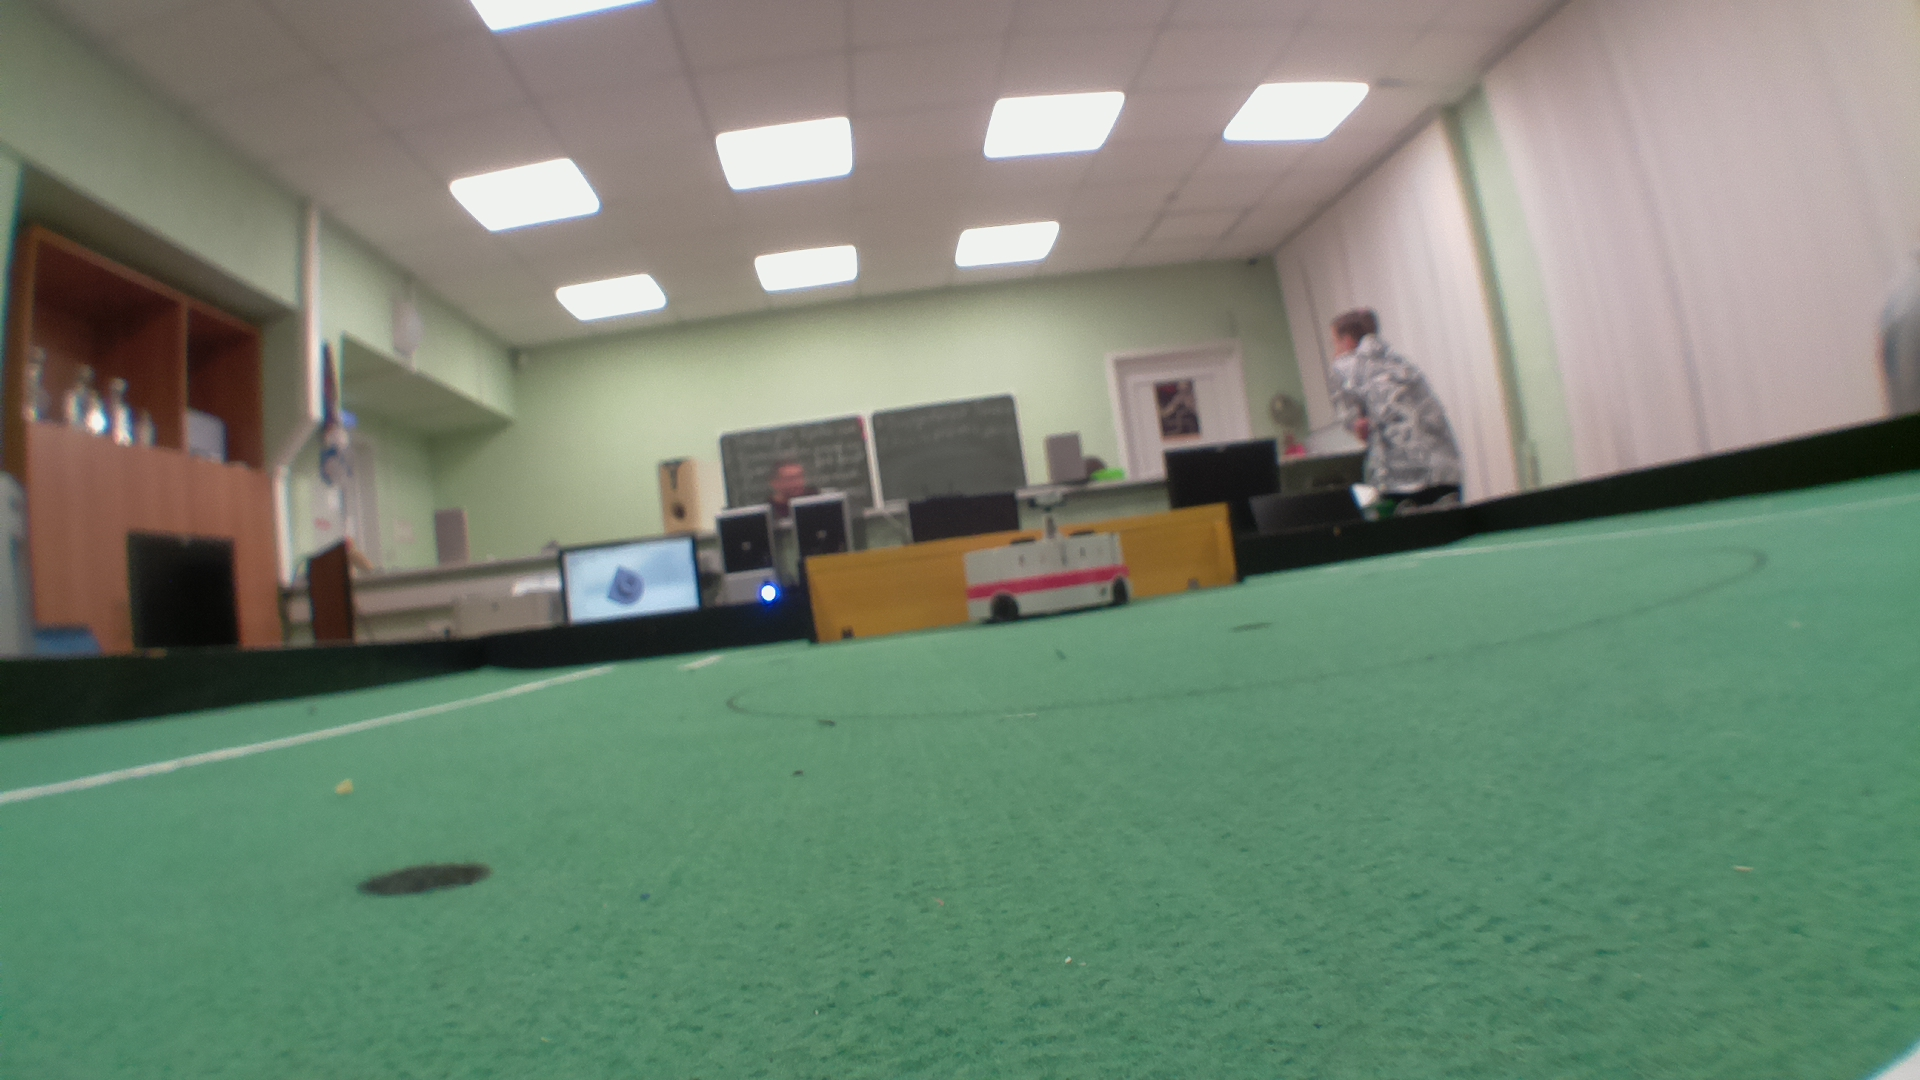YellowGoal: (816, 527, 1249, 612)
